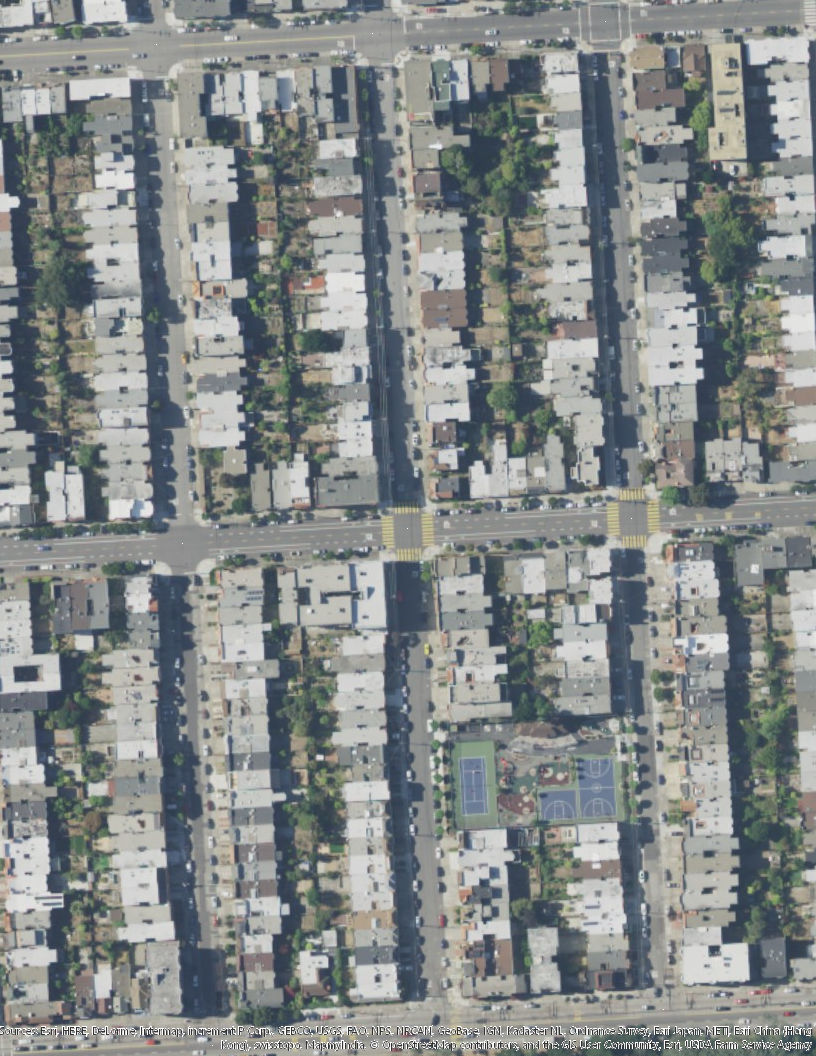zebracross: (607, 502, 622, 535), (380, 515, 395, 547), (647, 500, 661, 533), (421, 515, 435, 547), (395, 500, 421, 515), (619, 487, 645, 500), (623, 535, 648, 548), (396, 548, 419, 562), (805, 1, 816, 25)
